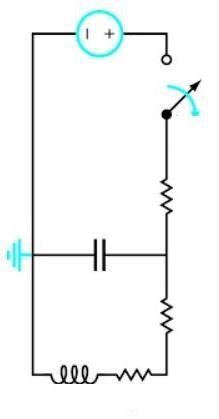resistor: (152, 274, 188, 337), (149, 165, 178, 222), (102, 358, 162, 383)
